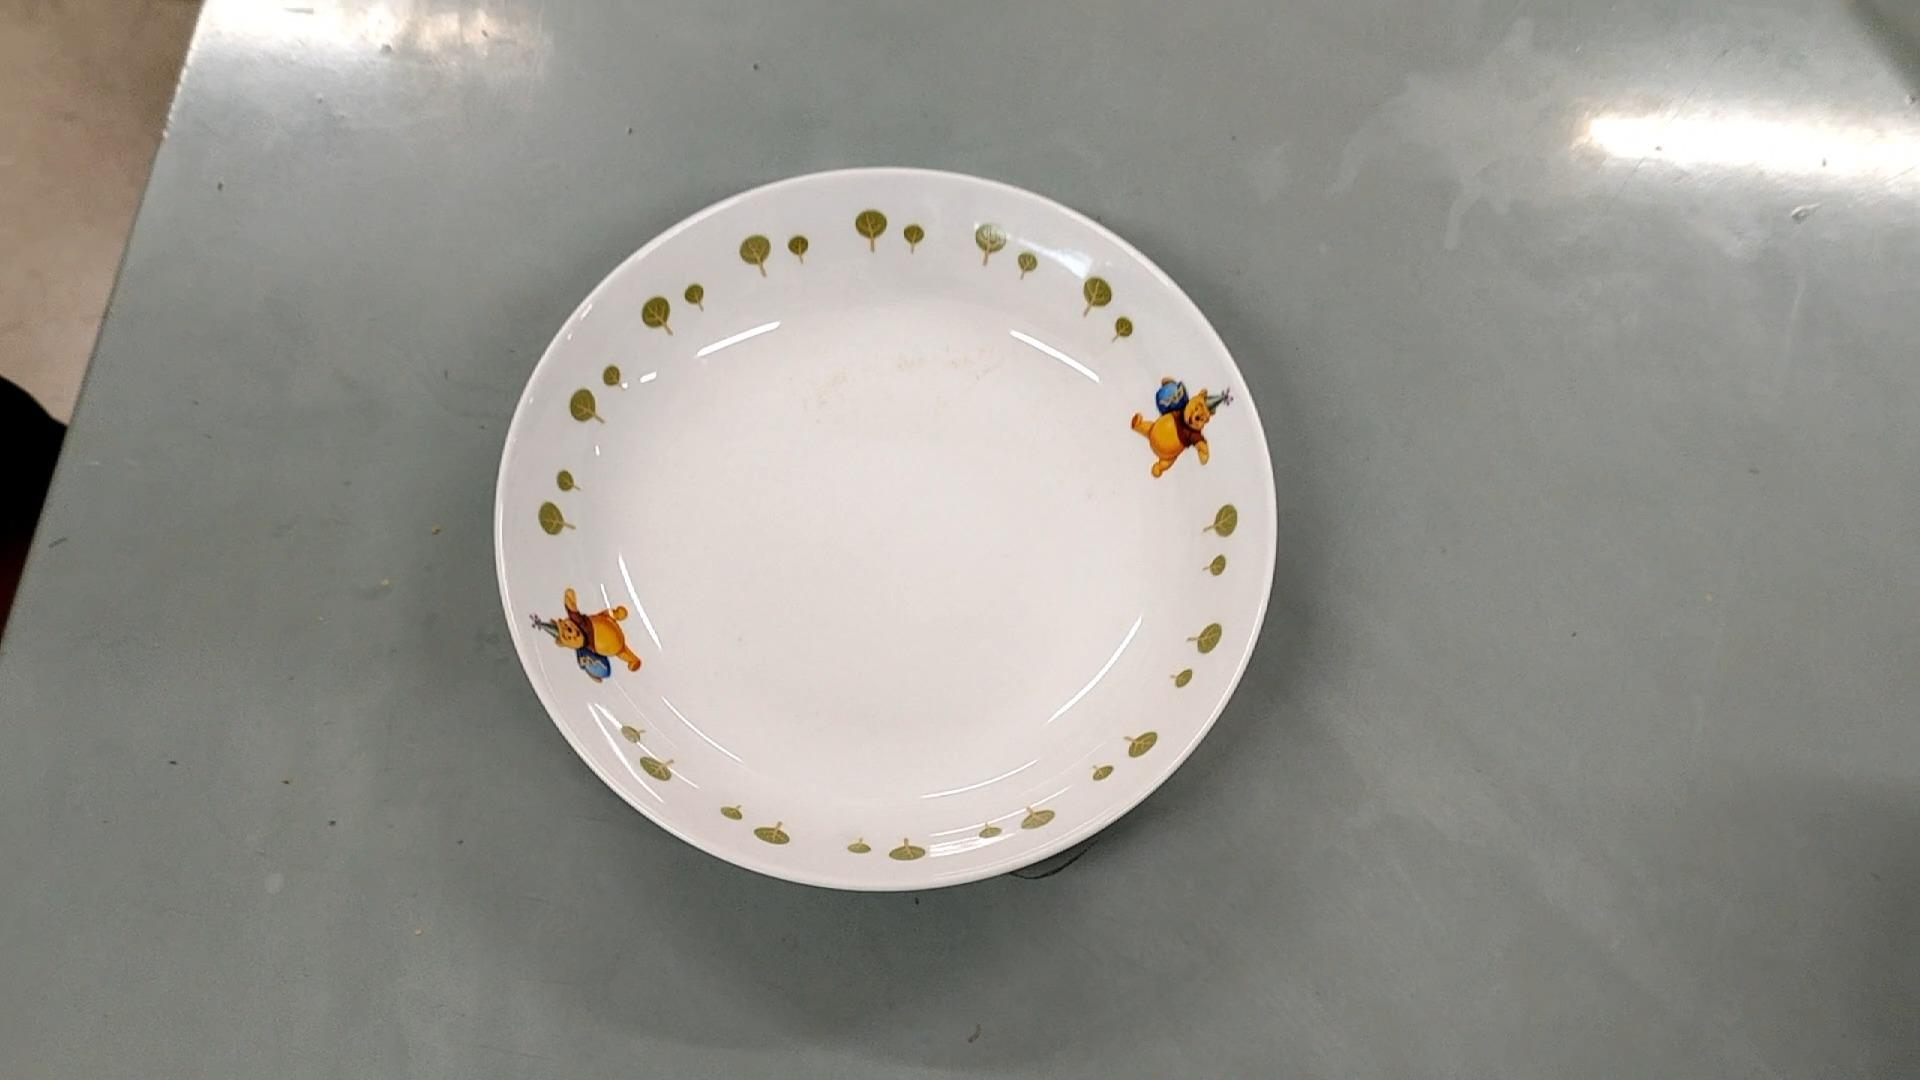plate: (496, 166, 1275, 890)
